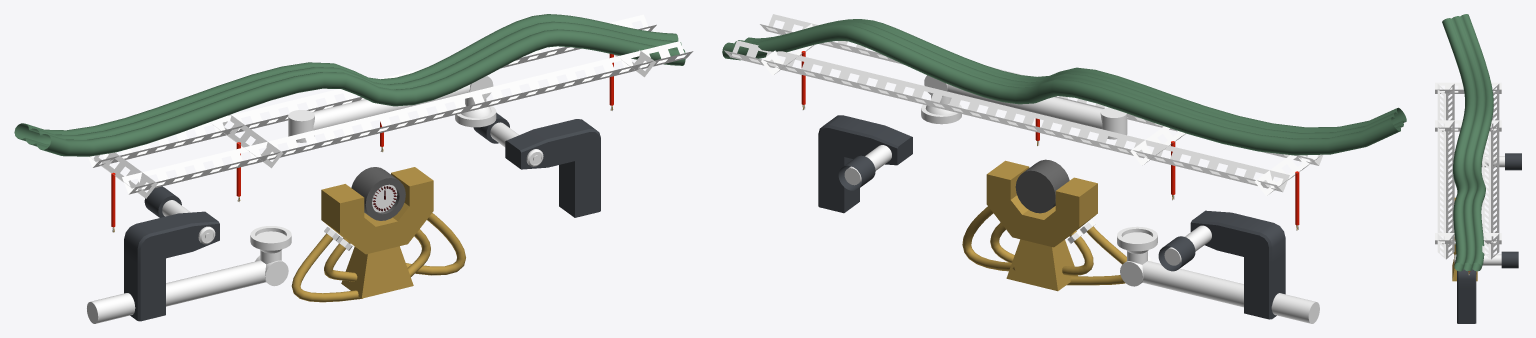
Rendered from MSH_Feature1_WBX.fbx.
3 views of the same model, side by side, from view 1: azimuth 30°, elevation 25°; view 2: azimuth 150°, elevation 25°; view 3: azimuth 270°, elevation 25° (orthographic). The views are drawn at different scales.
Parts seen in each view (by area): view 1: Curve_Cable.010, MSH_Hanger Strap_WBX.002, WBX_ElbowCluster, MSH_Rotator Left, MSH_Rotator Right, MSH_WarpPipe_WBX, MSH_Hanger Strap_WBX.001, MSH_WarpPipe_WBX.001, WBX_Simple Cluster|WBX_Simple Gauge|Dupli|, Curve_Cable.009, Curve_Cable.007, MSH_Hanger Strap_WBX.004 (+3 smaller); view 2: Curve_Cable.010, MSH_Hanger Strap_WBX.001, WBX_ElbowCluster, MSH_Rotator Left, MSH_Rotator Right, MSH_WarpPipe_WBX, MSH_WarpPipe_WBX.001, WBX_Simple Cluster|WBX_Simple Gauge|Dupli|, MSH_Hanger Strap_WBX.002, Curve_Cable.009, Curve_Cable.007, MSH_Hanger Strap_WBX.004 (+2 smaller); view 3: Curve_Cable.010, MSH_Hanger Strap_WBX.002, MSH_Hanger Strap_WBX.001, MSH_Rotator Right, MSH_Rotator Left, MSH_Hanger Strap_WBX.004, MSH_Hanger Strap_WBX.003, MSH_Hanger Strap_WBX.005, WBX_ElbowCluster.
Boxes of the visible parts, box(x1,y1,x2,y2) form: Curve_Cable.010: box(14, 14, 685, 156); MSH_Hanger Strap_WBX.002: box(122, 41, 693, 194); WBX_ElbowCluster: box(321, 167, 433, 298); MSH_Rotator Left: box(124, 186, 219, 321); MSH_Rotator Right: box(473, 113, 600, 217); MSH_WarpPipe_WBX: box(87, 226, 291, 323); MSH_Hanger Strap_WBX.001: box(88, 14, 656, 167); MSH_WarpPipe_WBX.001: box(288, 76, 496, 142); WBX_Simple Cluster|WBX_Simple Gauge|Dupli|: box(351, 167, 405, 220); Curve_Cable.009: box(291, 233, 362, 302); Curve_Cable.007: box(406, 213, 465, 275); MSH_Hanger Strap_WBX.004: box(90, 152, 157, 198); Curve_Cable.010: box(722, 19, 1406, 155); MSH_Hanger Strap_WBX.001: box(724, 40, 1289, 192); WBX_ElbowCluster: box(986, 160, 1097, 291); MSH_Rotator Left: box(1158, 210, 1285, 319); MSH_Rotator Right: box(818, 115, 912, 213); MSH_WarpPipe_WBX: box(1117, 226, 1319, 323); MSH_WarpPipe_WBX.001: box(921, 75, 1127, 139); WBX_Simple Cluster|WBX_Simple Gauge|Dupli|: box(1015, 159, 1069, 213); MSH_Hanger Strap_WBX.002: box(760, 14, 1323, 165); Curve_Cable.009: box(1066, 226, 1126, 285); Curve_Cable.007: box(962, 206, 1015, 271); MSH_Hanger Strap_WBX.004: box(1254, 155, 1321, 196); Curve_Cable.010: box(1442, 14, 1493, 271); MSH_Hanger Strap_WBX.002: box(1437, 84, 1454, 259); MSH_Hanger Strap_WBX.001: box(1482, 84, 1499, 259); MSH_Rotator Right: box(1454, 251, 1518, 323); MSH_Rotator Left: box(1481, 153, 1521, 170); MSH_Hanger Strap_WBX.004: box(1435, 82, 1501, 93); MSH_Hanger Strap_WBX.003: box(1435, 120, 1501, 131); MSH_Hanger Strap_WBX.005: box(1435, 233, 1501, 244); WBX_ElbowCluster: box(1452, 197, 1477, 281).
Size of the model in its own units: 18465 by 6645 by 3341.
